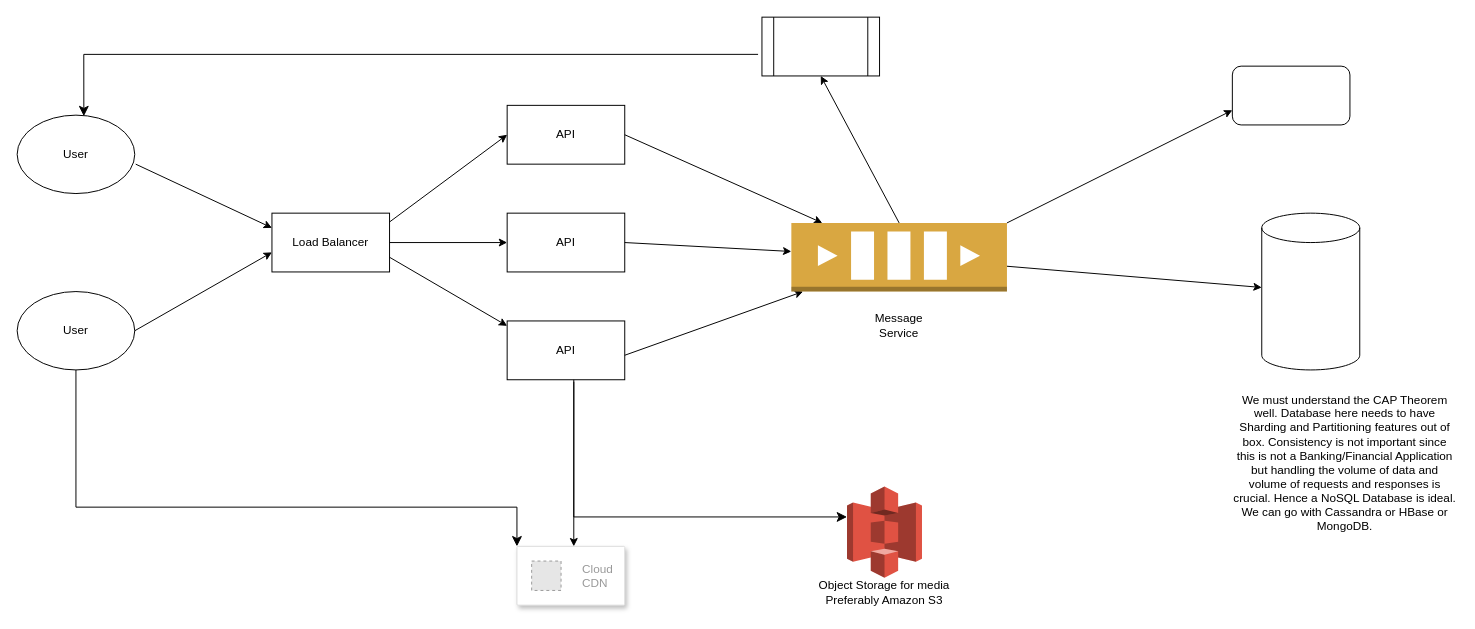
The diagram is 1475 pixels wide and 629 high, and some of its shapes have lost their labels. Grey dashed boxes stand in for pictures. Each missing label, with the centre of its shape:
"CACHE" belongs at [1290,95].
"Database (Cassandra or HBase)" belongs at [1310,291].
"Notification Service" belongs at [820,46].
